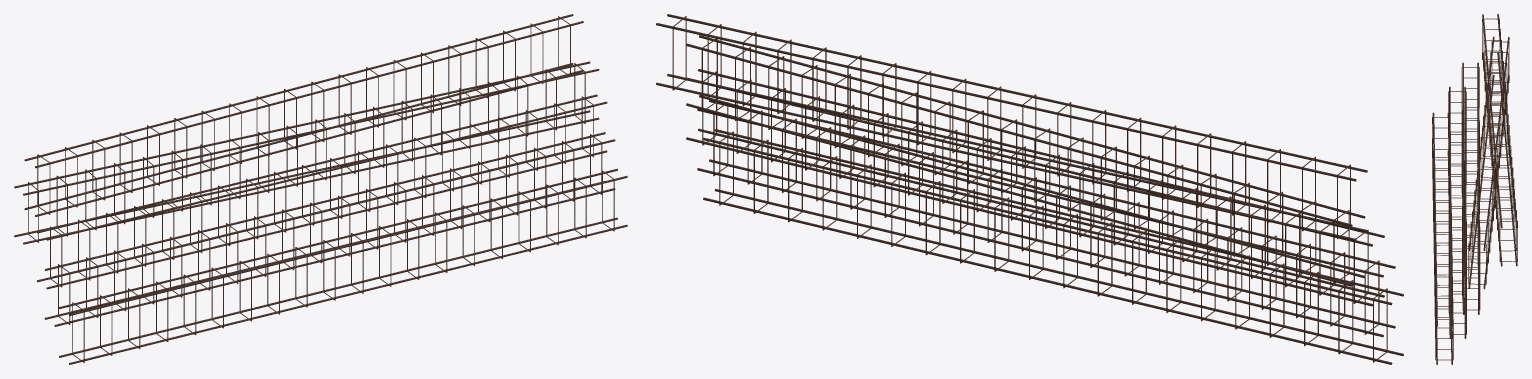
The model's file is EST-ARM-004_anim.glb.
3 renders of one model, left to right at view 1: azimuth 30°, elevation 25°; view 2: azimuth 150°, elevation 25°; view 3: azimuth 270°, elevation 25°, orthographic. The views are drawn at different scales.
Visible parts, largest first — view 1: EST-ARM-004_anim0, EST-ARM-004_anim4, EST-ARM-004_anim3, EST-ARM-004_anim1, EST-ARM-004_anim2; view 2: EST-ARM-004_anim4, EST-ARM-004_anim3, EST-ARM-004_anim0, EST-ARM-004_anim1, EST-ARM-004_anim2; view 3: EST-ARM-004_anim3, EST-ARM-004_anim4, EST-ARM-004_anim2, EST-ARM-004_anim1, EST-ARM-004_anim0.
Boxes of the visible parts, x1,y1,x2,y2 form: EST-ARM-004_anim0: (59, 168, 627, 364); EST-ARM-004_anim4: (24, 14, 583, 216); EST-ARM-004_anim3: (14, 61, 599, 244); EST-ARM-004_anim1: (44, 132, 615, 326); EST-ARM-004_anim2: (37, 94, 607, 289); EST-ARM-004_anim4: (656, 14, 1367, 241); EST-ARM-004_anim3: (686, 35, 1365, 286); EST-ARM-004_anim0: (703, 129, 1403, 364); EST-ARM-004_anim1: (697, 100, 1395, 337); EST-ARM-004_anim2: (686, 69, 1384, 306); EST-ARM-004_anim3: (1468, 36, 1509, 289); EST-ARM-004_anim4: (1482, 14, 1517, 266); EST-ARM-004_anim2: (1461, 62, 1480, 314); EST-ARM-004_anim1: (1448, 86, 1466, 338); EST-ARM-004_anim0: (1432, 112, 1453, 364).
Bounding box in the file's own units: 3.04 × 0.9081 × 0.5113.
Materials: 1 (1 with a texture image).
